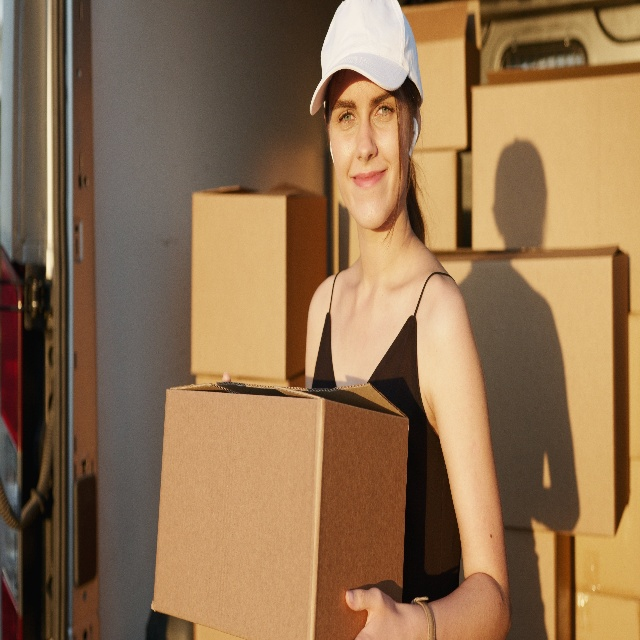Sin_guantes: (345, 583, 428, 640)
